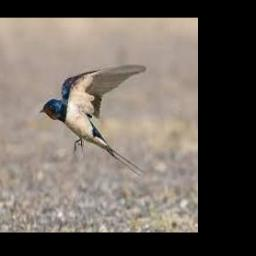Swallow: (40, 64, 146, 175)
